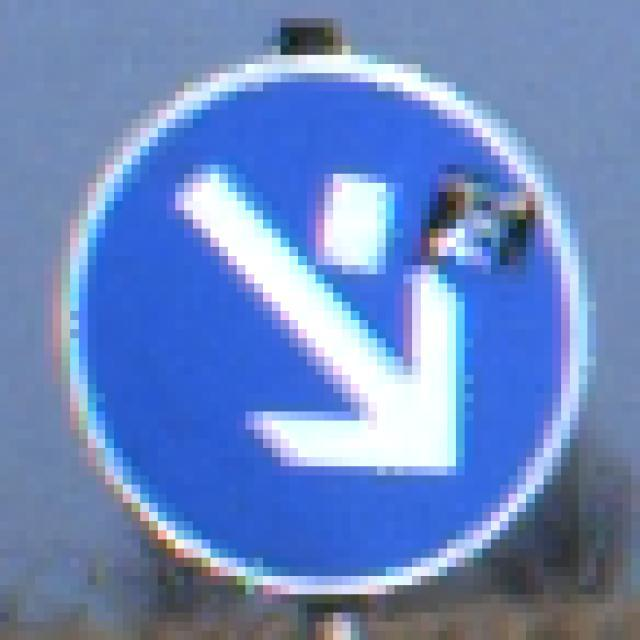compulsary keep right: (40, 44, 615, 601)
